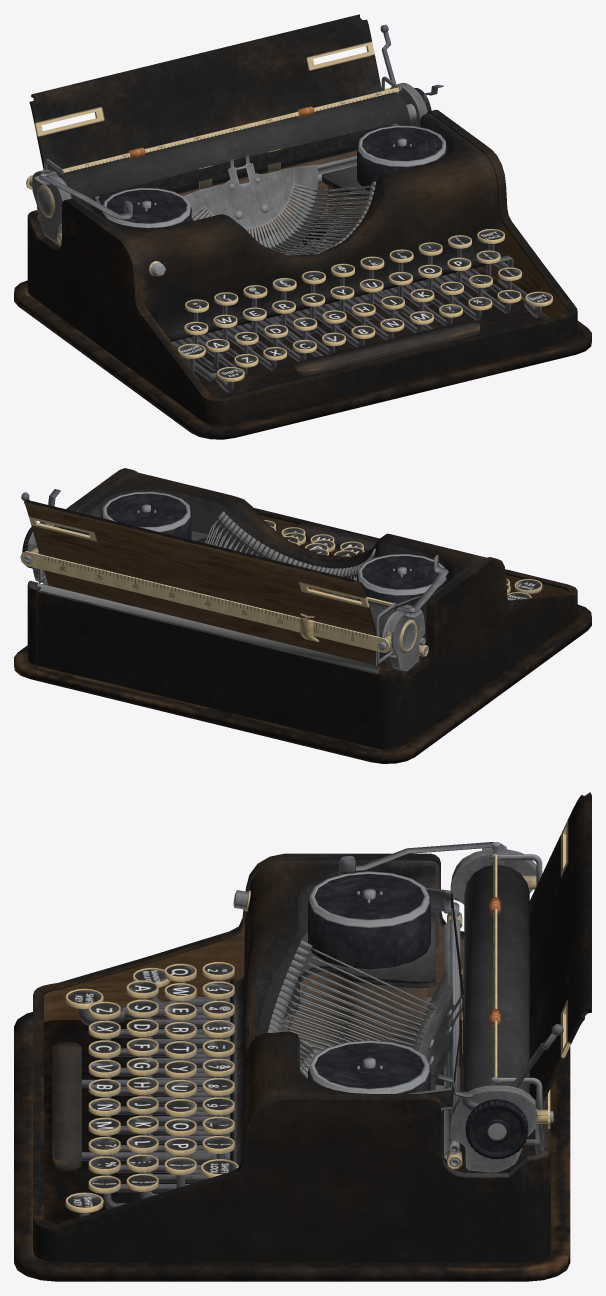
The model's file is typewriter.gltf.
The picture shows the model from 3 angles, top to bottom: view 1: azimuth 30°, elevation 25°; view 2: azimuth 150°, elevation 25°; view 3: azimuth 270°, elevation 25°; orthographic projection. The views are drawn at different scales.
Visible parts, largest first — view 1: Object_3, Object_4, Object_5; view 2: Object_3, Object_4, Object_5; view 3: Object_3, Object_4, Object_5.
Part boxes in pixels (box(x1,y1,x2,y2)): Object_3: box(14, 109, 591, 439); Object_4: box(26, 14, 443, 241); Object_5: box(57, 123, 447, 255); Object_3: box(14, 468, 591, 763); Object_4: box(20, 489, 448, 670); Object_5: box(37, 491, 447, 672); Object_3: box(14, 853, 570, 1281); Object_4: box(338, 792, 591, 1172); Object_5: box(267, 871, 542, 1170).
Bounding box in the file's own units: 0.3782 × 0.169 × 0.352.
Materials: 1 (1 with a texture image).
